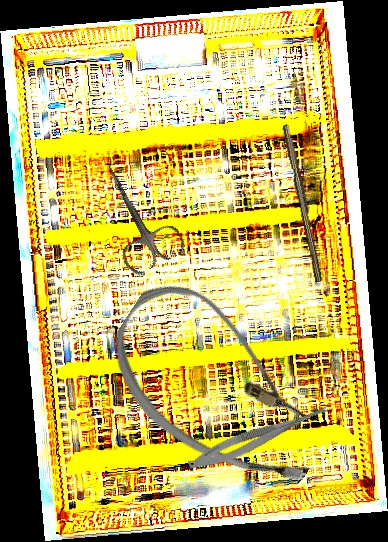Cannula: (85, 264, 359, 510)
Iris Scissors: (81, 150, 189, 278)
Micro Scissor: (185, 392, 339, 478)
Scalpel Handle: (279, 123, 328, 283)
